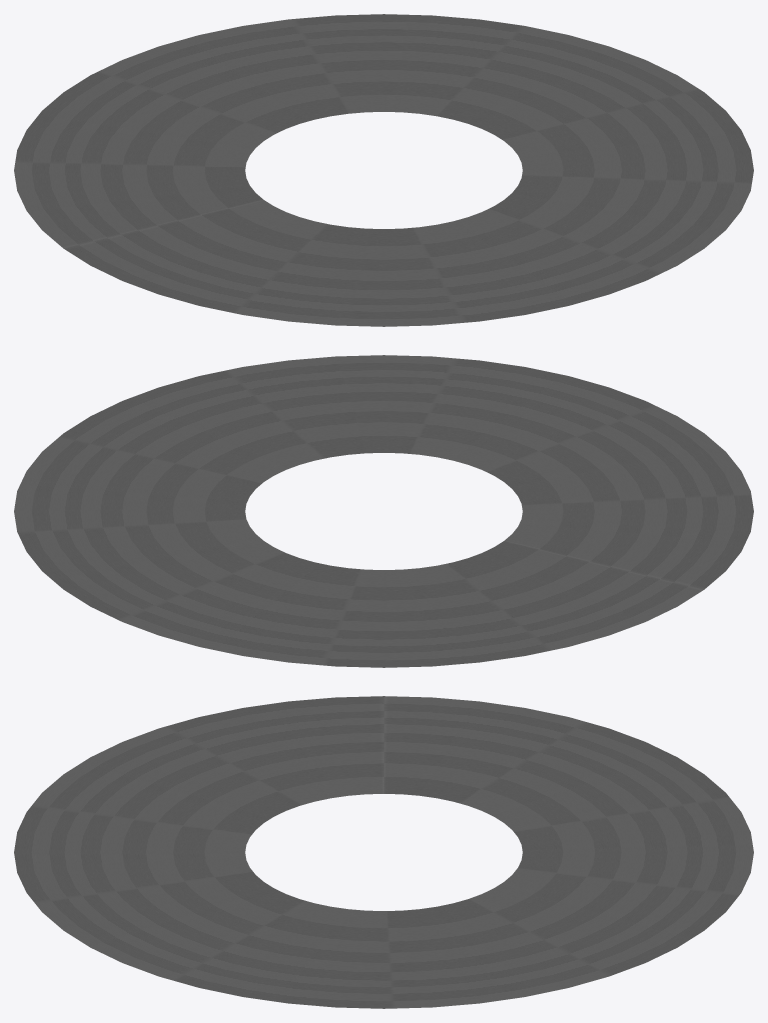
The model's file is SM_Shockwave_Disc.glb.
The picture shows the model from 3 angles, top to bottom: view 1: azimuth 30°, elevation 25°; view 2: azimuth 150°, elevation 25°; view 3: azimuth 270°, elevation 25°; orthographic projection.
Visible parts, largest first — view 1: SM_Shockwave_Disc; view 2: SM_Shockwave_Disc; view 3: SM_Shockwave_Disc.
Boxes of the visible parts, left/top/right/bottom form: SM_Shockwave_Disc: left=14, top=14, right=753, bottom=326; SM_Shockwave_Disc: left=14, top=355, right=753, bottom=667; SM_Shockwave_Disc: left=14, top=696, right=753, bottom=1008.
Bounding box in the file's own units: 2 × 4.77e-09 × 2.
Materials: 1 (1 with a texture image).
